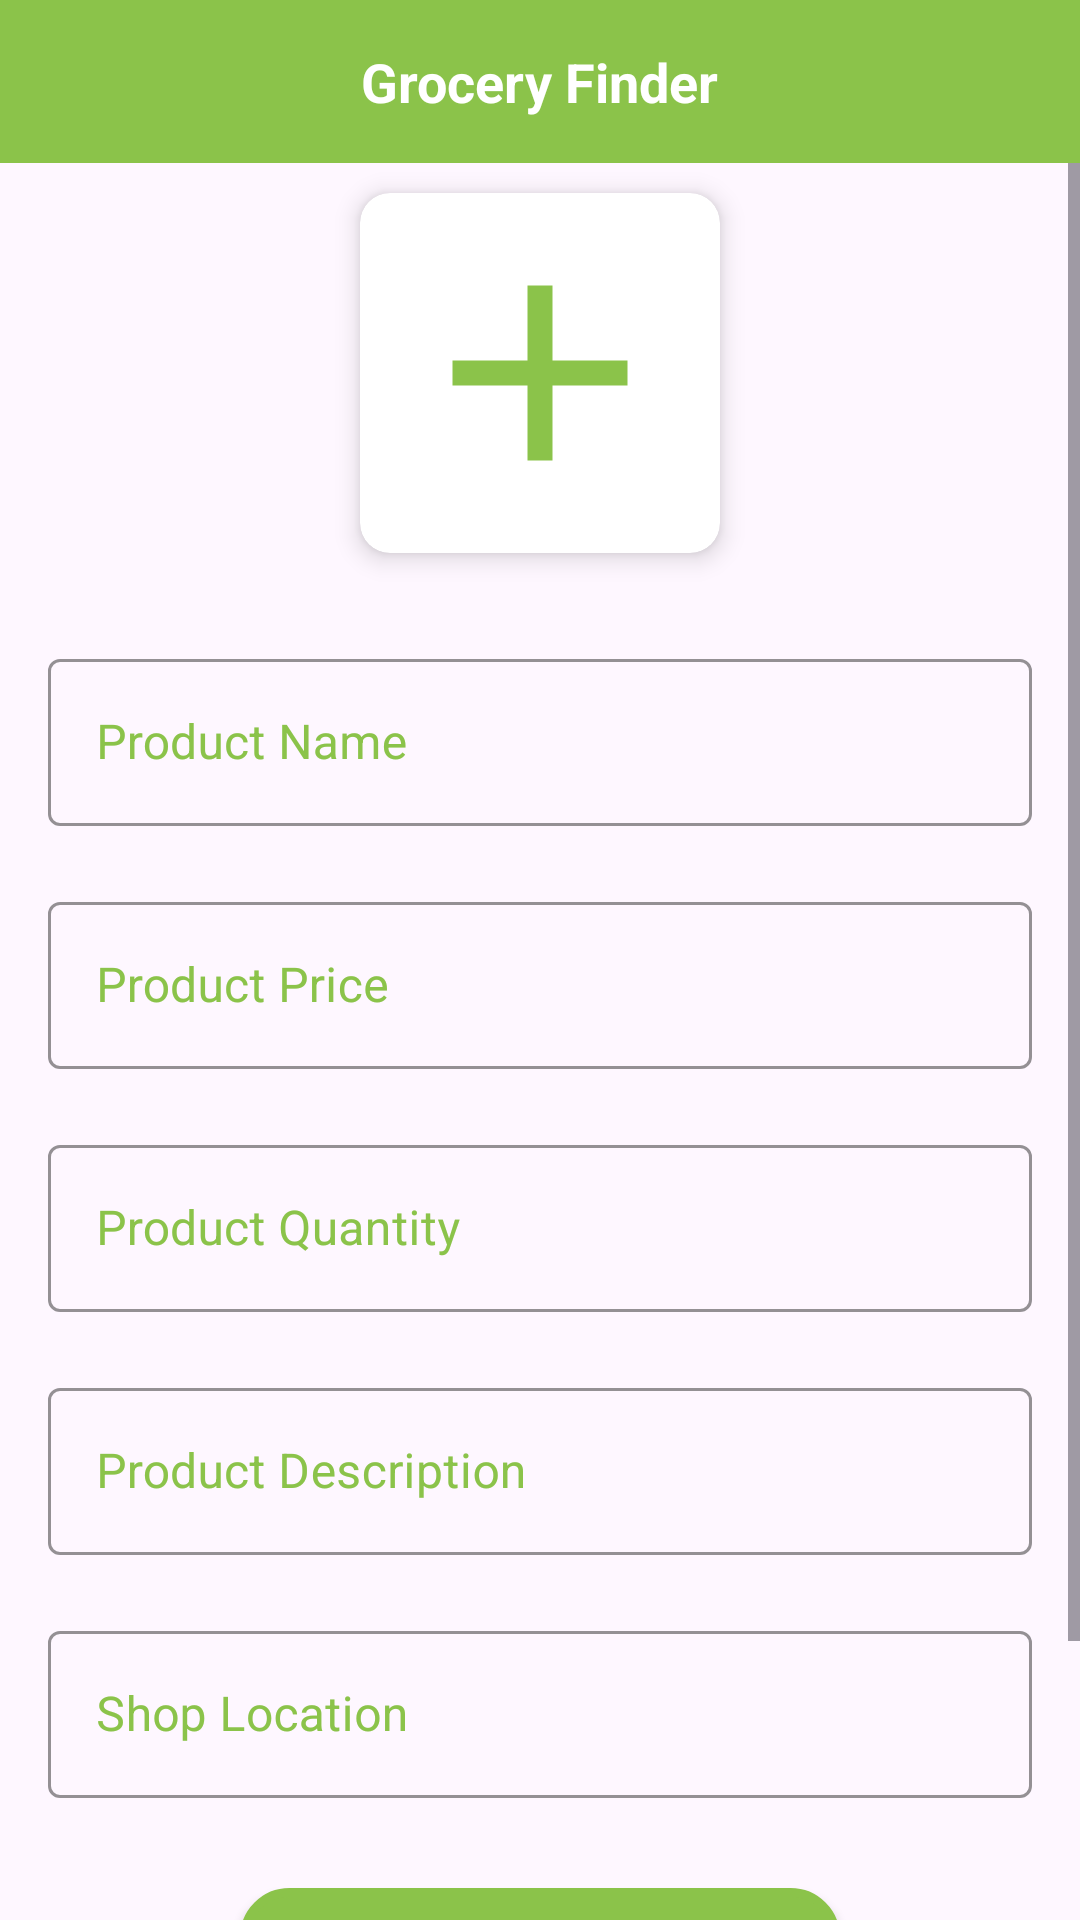

Named icons in this screenshot (1080px×1920px) and their bounding boxes, region(x1, y1, x2, y2):
add: region(360, 193, 720, 553)
